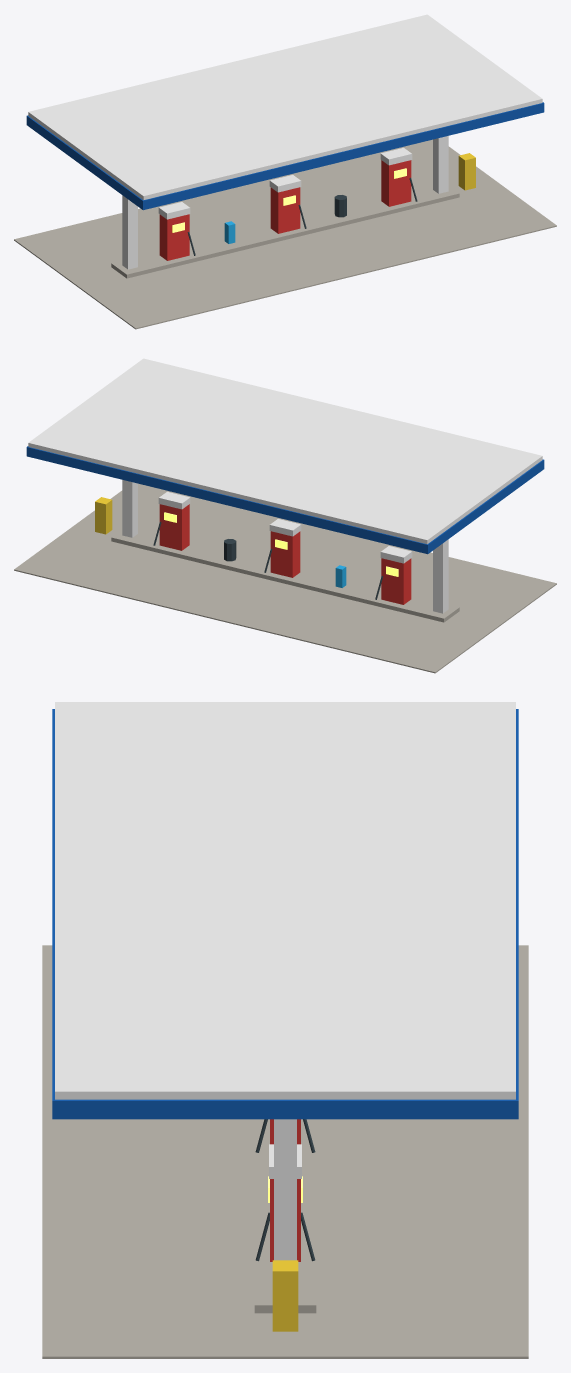
The model's file is exits_canopy.glb.
The picture shows the model from 3 angles, top to bottom: view 1: azimuth 30°, elevation 25°; view 2: azimuth 150°, elevation 25°; view 3: azimuth 270°, elevation 25°; orthographic projection. The views are drawn at different scales.
Parts seen in each view (by area): view 1: ExitsCanopy_body; view 2: ExitsCanopy_body; view 3: ExitsCanopy_body.
Part boxes in pixels (x1=…): ExitsCanopy_body: x1=14, y1=14, x2=556, y2=329; ExitsCanopy_body: x1=14, y1=358, x2=556, y2=673; ExitsCanopy_body: x1=42, y1=702, x2=528, y2=1358.
Size of the model in its own units: 19 by 5.53 by 9.5.
